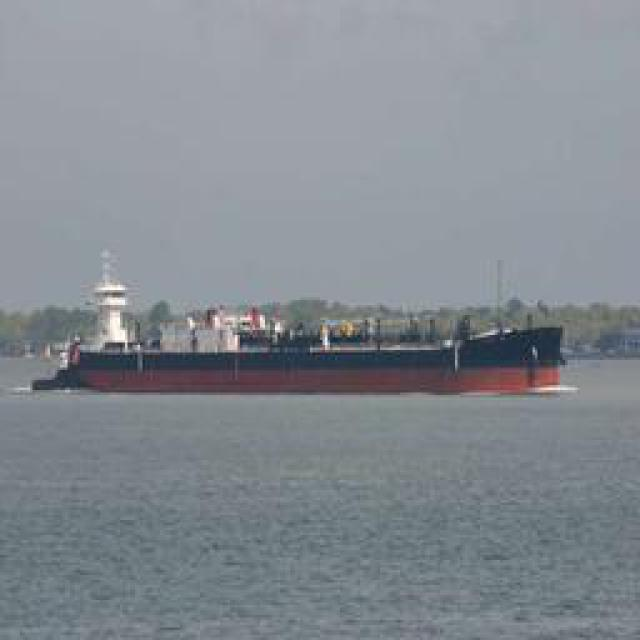Ship: (26, 217, 584, 398)
